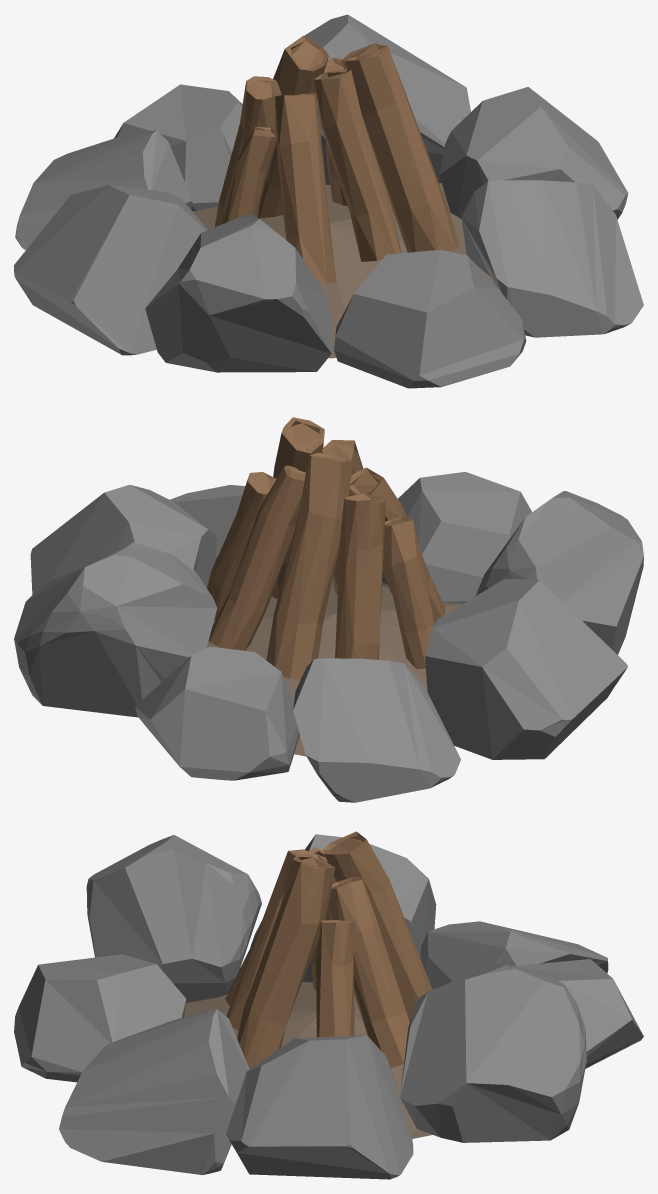
The model's file is fireplace.fbx.
The picture shows the model from 3 angles, top to bottom: view 1: azimuth 30°, elevation 25°; view 2: azimuth 150°, elevation 25°; view 3: azimuth 270°, elevation 25°; orthographic projection.
Visible parts, largest first — view 1: fireplace, tronquitos, cenizas; view 2: fireplace, tronquitos, cenizas; view 3: fireplace, tronquitos, cenizas.
Part boxes in pixels (x1=…): fireplace: x1=14, y1=14, x2=643, y2=388; tronquitos: x1=215, y1=35, x2=459, y2=283; cenizas: x1=192, y1=183, x2=494, y2=358; fireplace: x1=14, y1=472, x2=643, y2=802; tronquitos: x1=207, y1=417, x2=445, y2=679; cenizas: x1=207, y1=580, x2=462, y2=756; fireplace: x1=14, y1=834, x2=643, y2=1179; tronquitos: x1=225, y1=831, x2=432, y2=1068; cenizas: x1=184, y1=982, x2=432, y2=1138.
Size of the model in its own units: 233 by 90.35 by 229.
